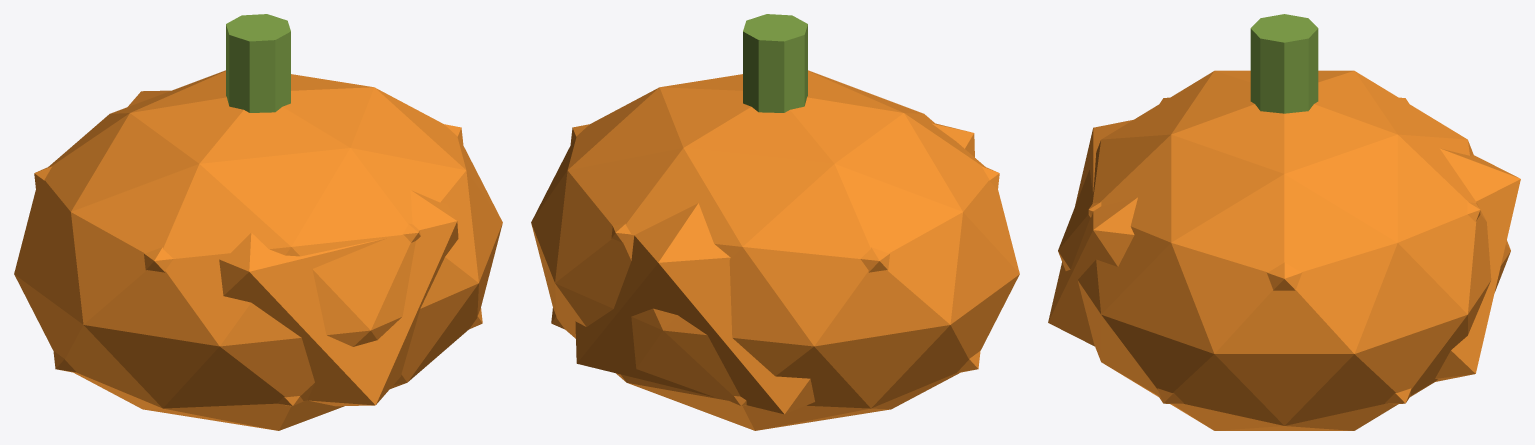
File: harvest_drop_pumpkin.glb
3 renders of one model, left to right at view 1: azimuth 30°, elevation 25°; view 2: azimuth 150°, elevation 25°; view 3: azimuth 270°, elevation 25°, orthographic.
Parts seen in each view (by area): view 1: FTF_Harvest_Drop_Pumpkin_Mesh; view 2: FTF_Harvest_Drop_Pumpkin_Mesh; view 3: FTF_Harvest_Drop_Pumpkin_Mesh.
Part boxes in pixels (x1,y1,x2,y2): FTF_Harvest_Drop_Pumpkin_Mesh: (14,14,502,430); FTF_Harvest_Drop_Pumpkin_Mesh: (531,14,1019,430); FTF_Harvest_Drop_Pumpkin_Mesh: (1048,14,1520,430).
Bounding box in the file's own units: 0.6467 × 0.56 × 0.6261.
